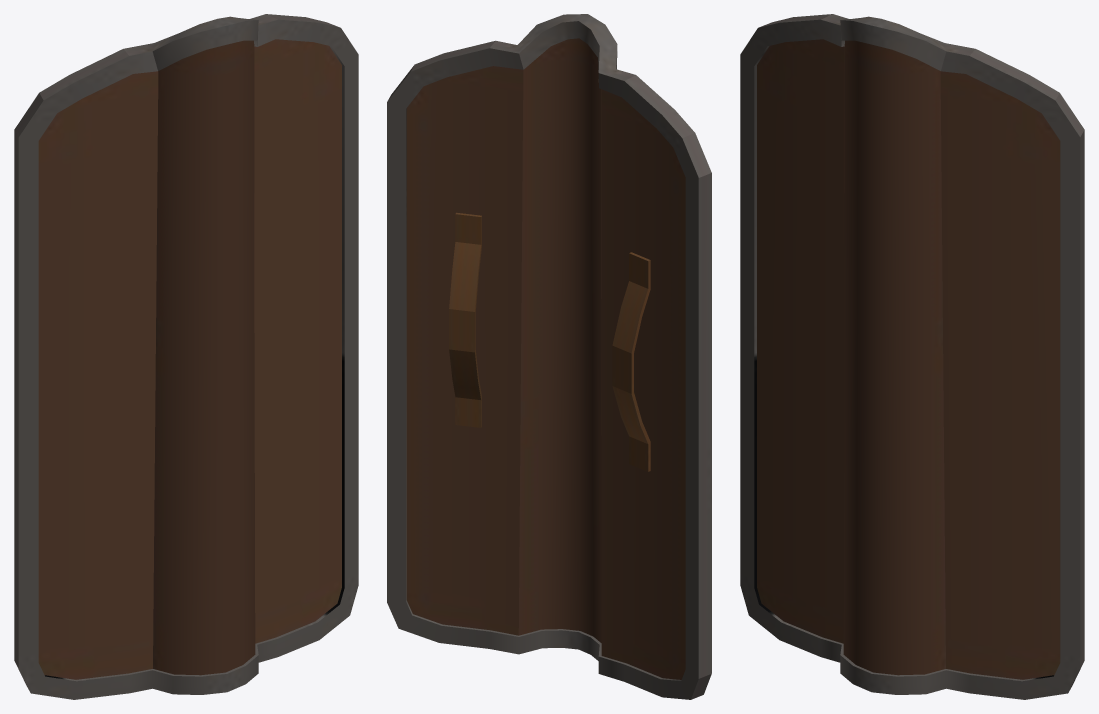
The model's file is Pavise Shield_Brown.fbx.
3 views of the same model, side by side, from view 1: azimuth 30°, elevation 25°; view 2: azimuth 150°, elevation 25°; view 3: azimuth 330°, elevation 25° (orthographic). The views are drawn at different scales.
Parts seen in each view (by area): view 1: Pavise Shield_Brown_Baked; view 2: Pavise Shield_Brown_Baked; view 3: Pavise Shield_Brown_Baked.
Part boxes in pixels (<box>): Pavise Shield_Brown_Baked: <box>14,14,358,699</box>; Pavise Shield_Brown_Baked: <box>387,14,711,699</box>; Pavise Shield_Brown_Baked: <box>740,14,1084,699</box>.
Size of the model in its own units: 65.21 by 122 by 16.93.
1 material, 1 textured.
